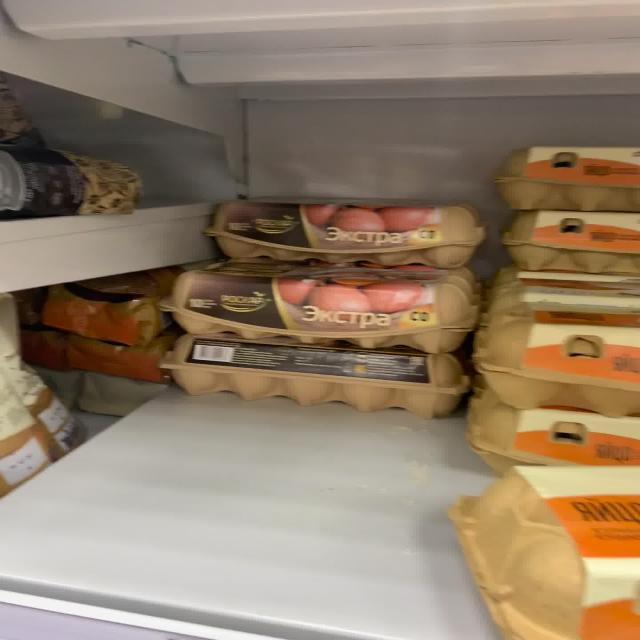egg box: (156, 333, 474, 416), (176, 263, 480, 349), (212, 198, 479, 262)
